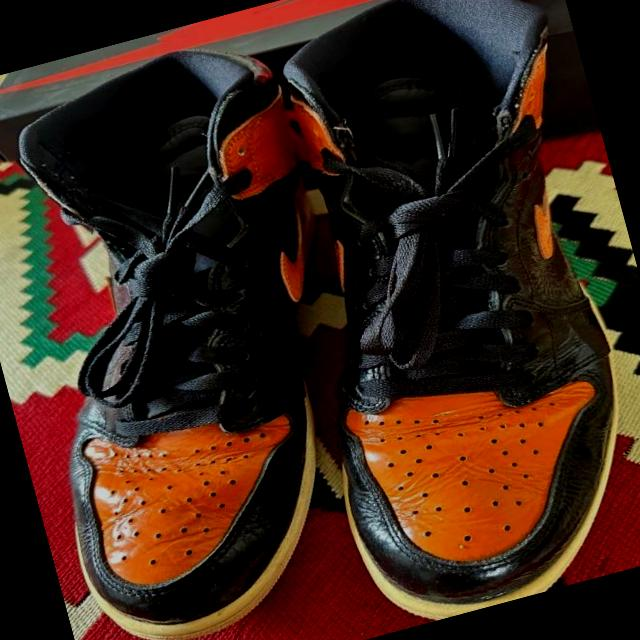nike_original_jordan: (0, 15, 450, 640), (218, 0, 640, 636)
